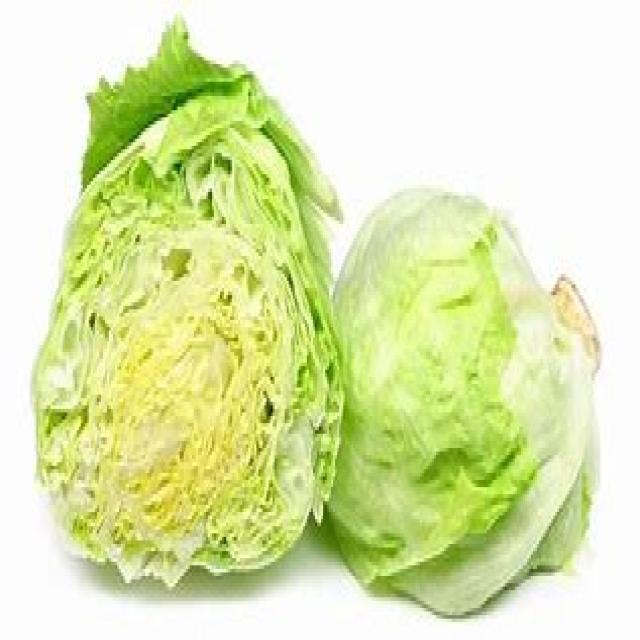cabbage: (33, 89, 330, 600), (305, 189, 608, 613)
